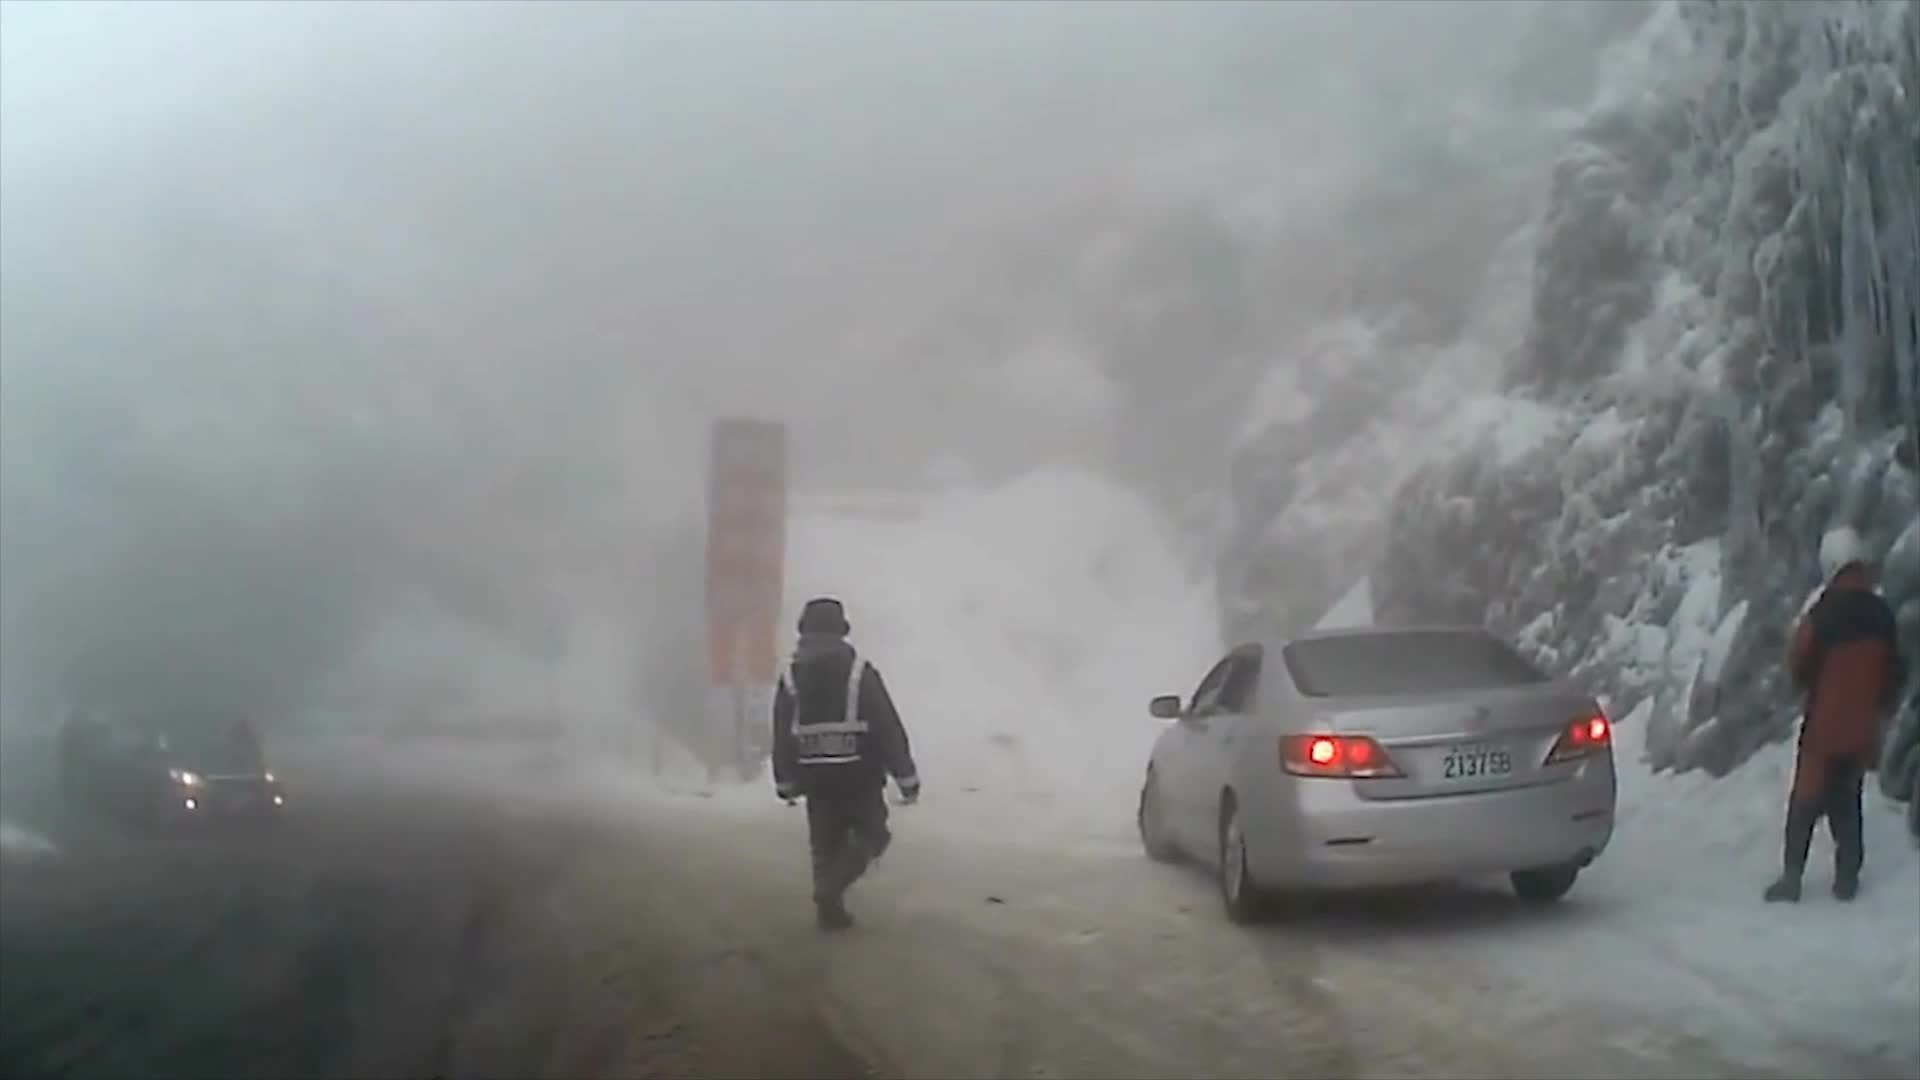pedestrian: (772, 598, 928, 939), (1768, 530, 1898, 905)
vehicle: (1135, 624, 1616, 924), (78, 702, 284, 836)
